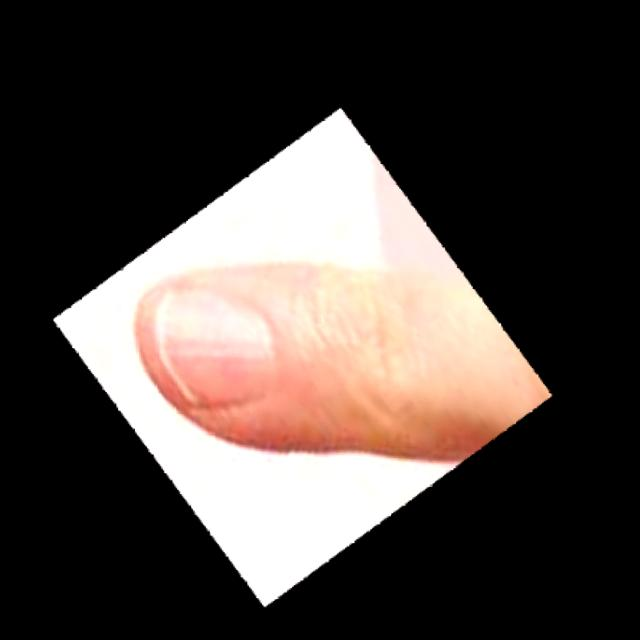Nail: (162, 289, 274, 408)
